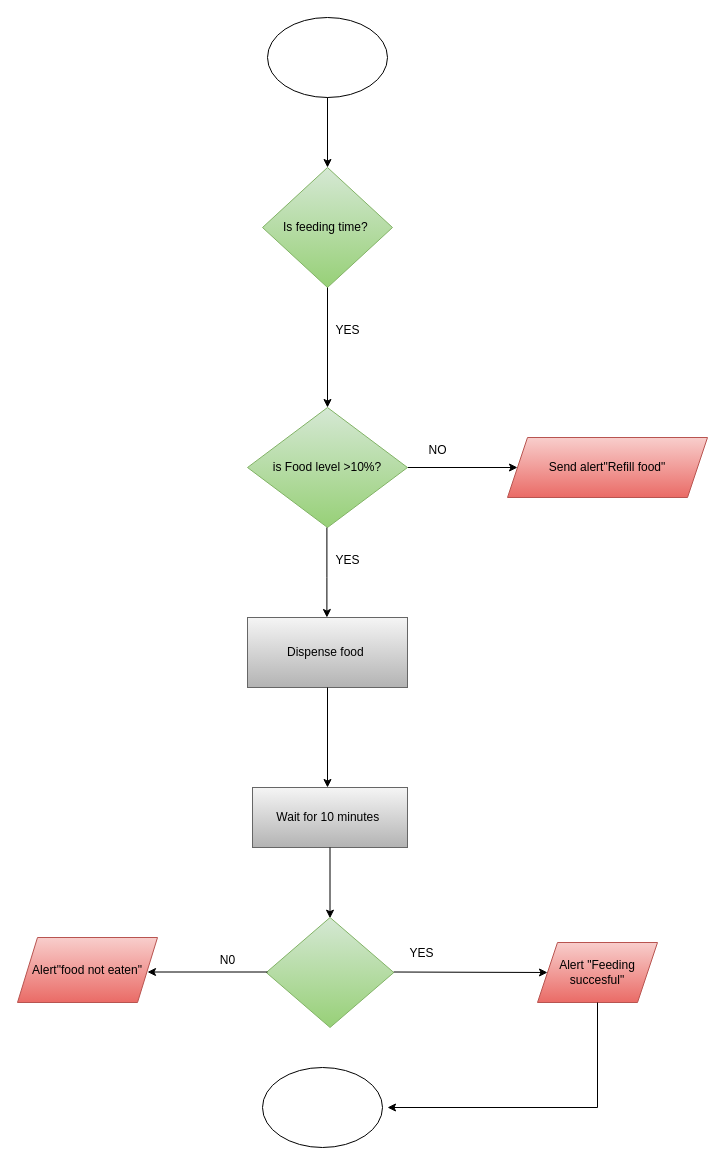
Some shapes in this 725 by 1165 pixel diagram are drawn without their labels. The shapes that lost their labels are listed below. From the top down, each one's box as (x1, y1, x2, y2) in pixels, then its label:
(266, 16, 388, 98): start
(265, 916, 394, 1028): Has bowl weight changed?
(262, 1066, 382, 1148): End
